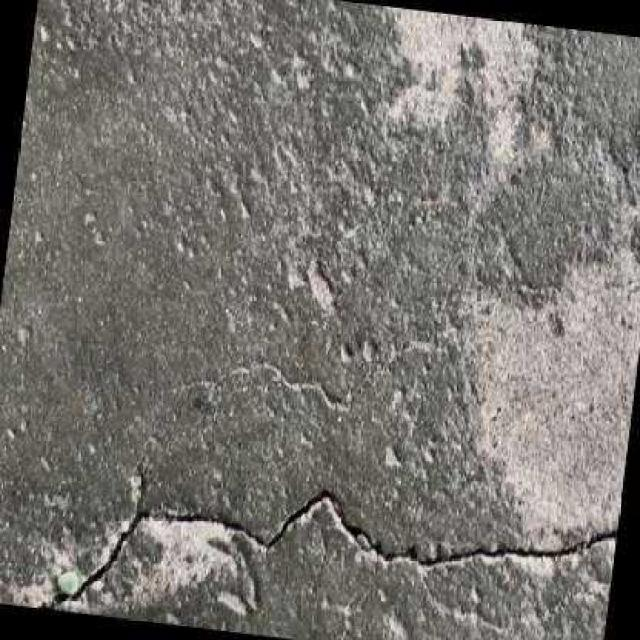D00: (29, 487, 617, 610)
